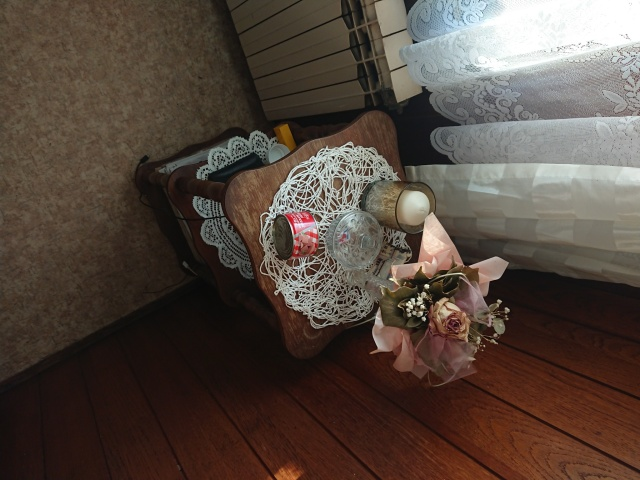Podravka Luncheon Meat 150g: (270, 209, 322, 262)
